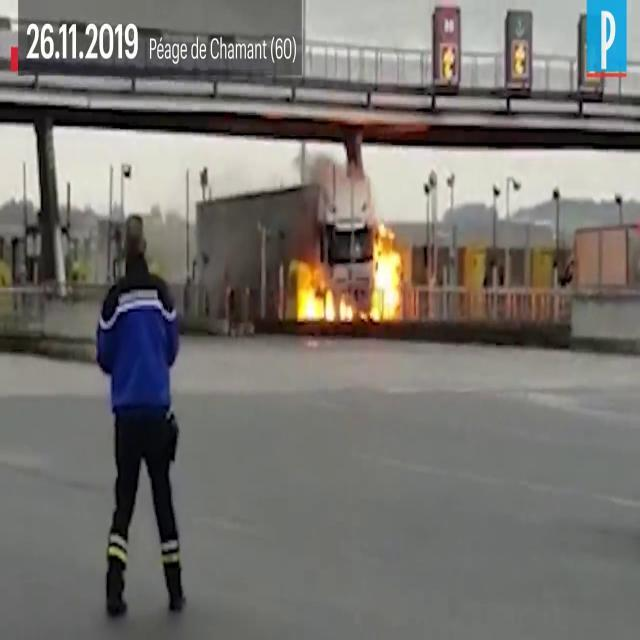Fire: (284, 227, 411, 330)
